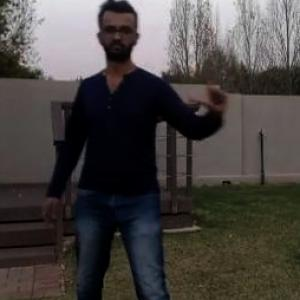land_hand: (184, 72, 238, 121)
